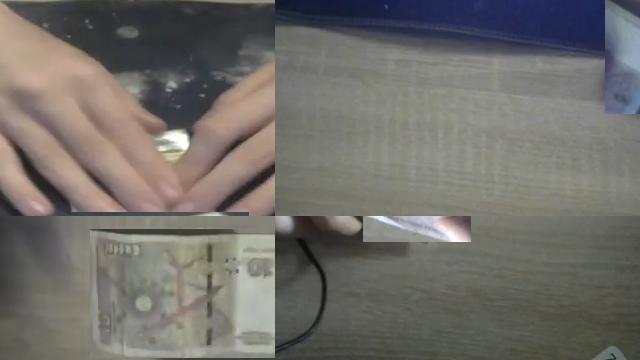10leva: (90, 229, 275, 358), (605, 0, 640, 114)
